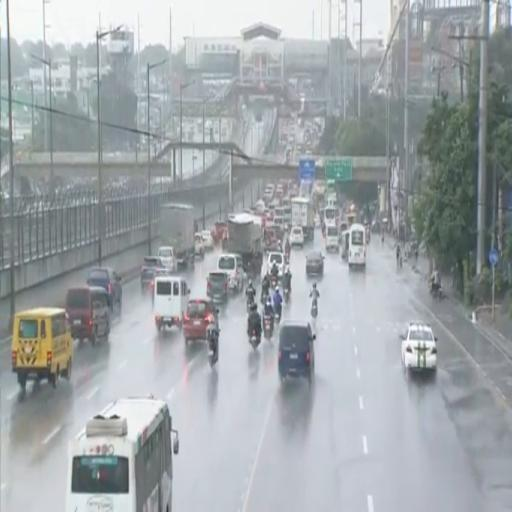bus: (66, 397, 178, 511), (348, 223, 366, 268), (324, 206, 339, 225)
car: (66, 286, 110, 345), (278, 320, 315, 386), (400, 323, 437, 372), (87, 267, 122, 314), (183, 299, 218, 342), (141, 256, 165, 293), (207, 271, 229, 302), (158, 246, 176, 271), (267, 252, 284, 278), (306, 251, 323, 276), (289, 227, 303, 247), (201, 230, 214, 250), (194, 233, 204, 258)
motorcycle: (208, 330, 220, 367), (429, 283, 443, 299), (249, 329, 260, 349), (264, 315, 273, 339), (274, 306, 281, 324), (261, 291, 269, 306), (247, 295, 254, 312), (311, 299, 317, 318), (283, 287, 290, 302), (271, 275, 278, 289), (285, 248, 290, 264)
truck: (223, 213, 263, 277), (159, 203, 195, 268), (291, 198, 314, 239)
